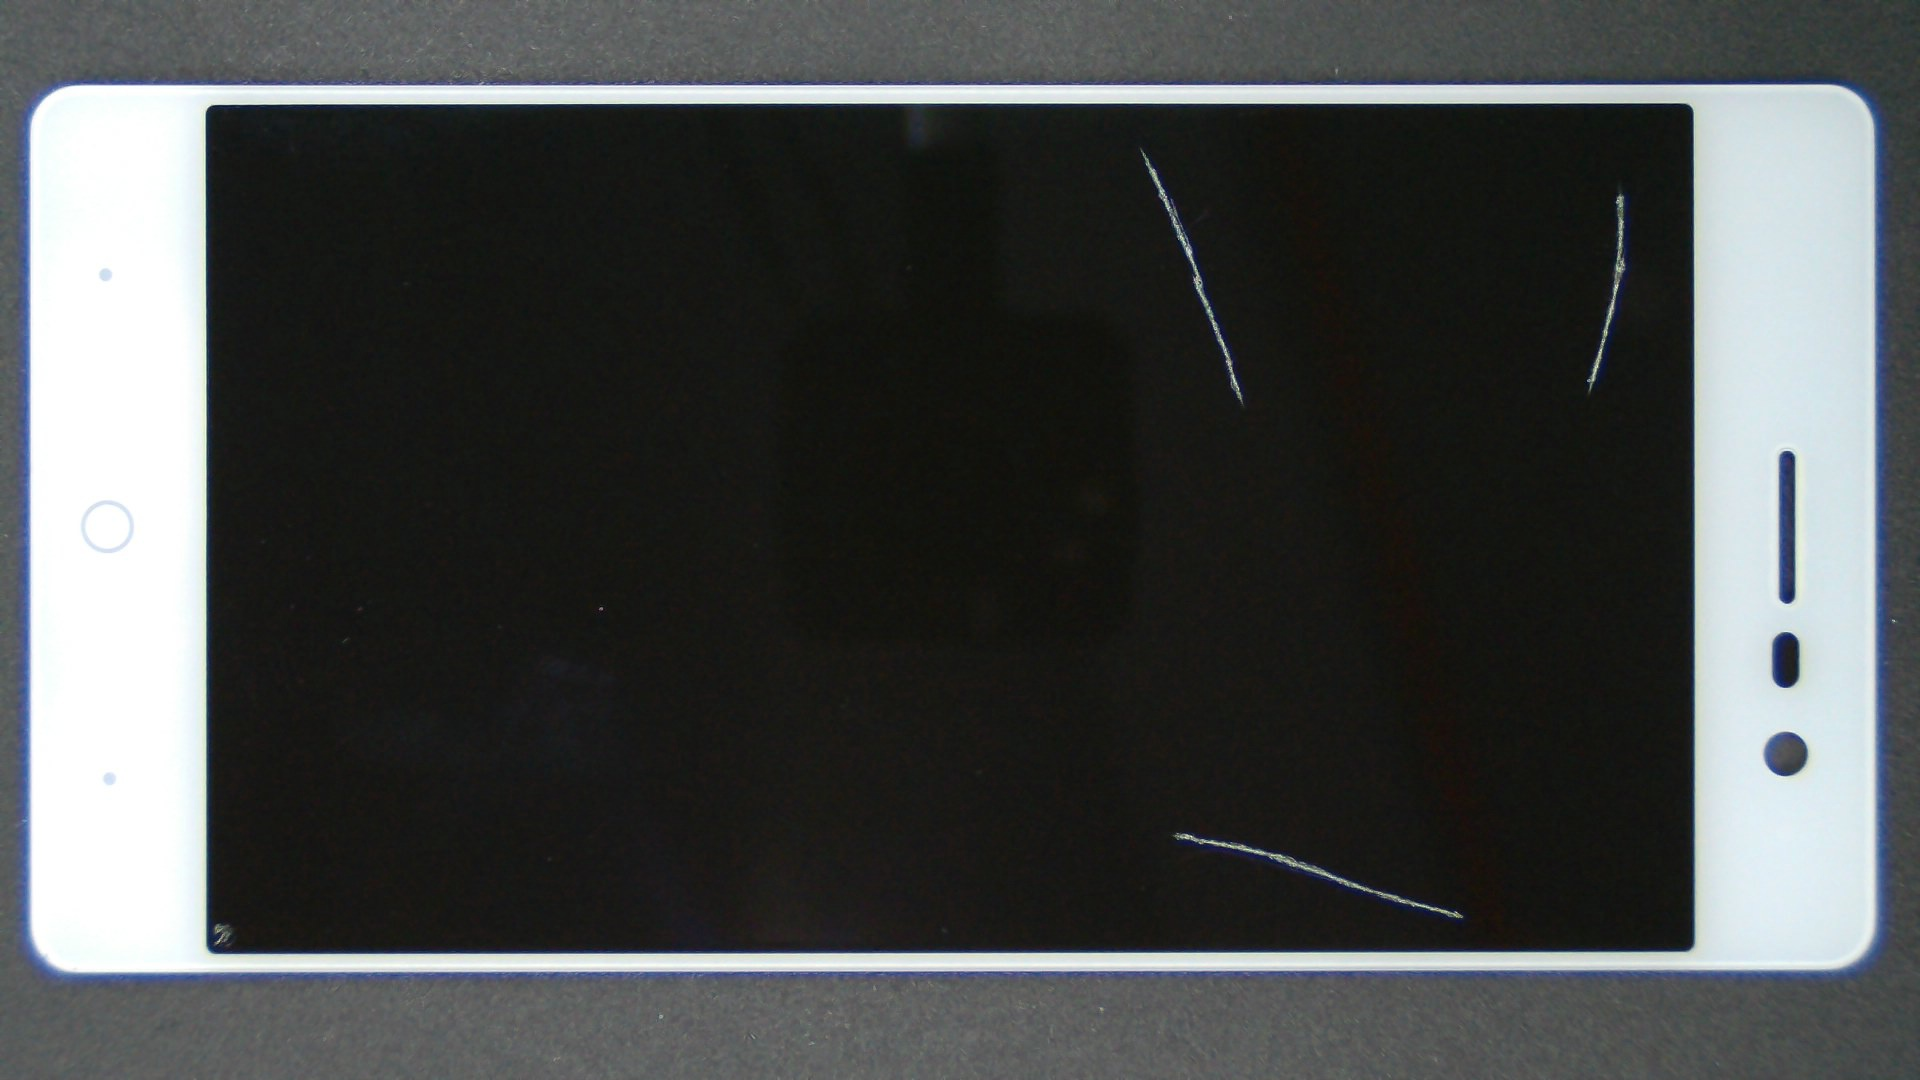oil: (588, 415, 1762, 1080), (811, 95, 1920, 289), (570, 74, 1709, 223), (109, 460, 324, 1080)
